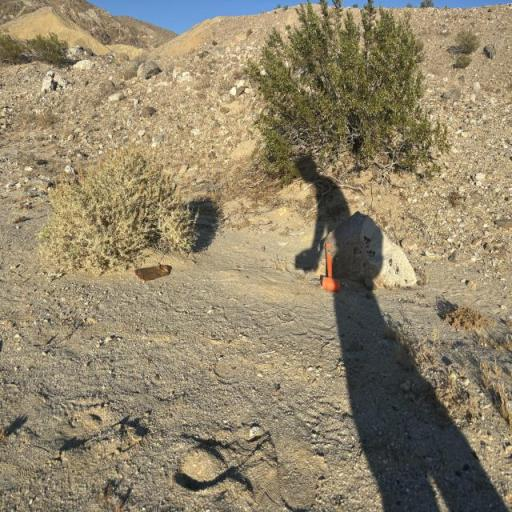mallet: (318, 237, 346, 296)
